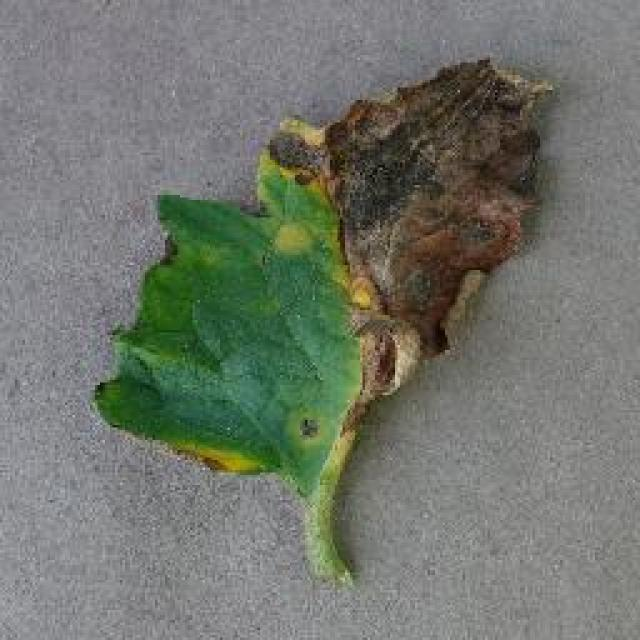Tomato_Early_Blight: (268, 37, 558, 407)
